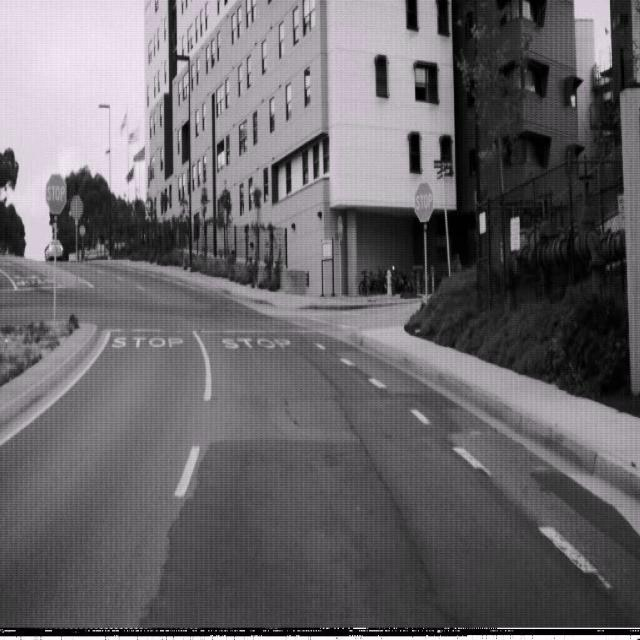stop_sign: (45, 172, 67, 214), (414, 180, 433, 223)
